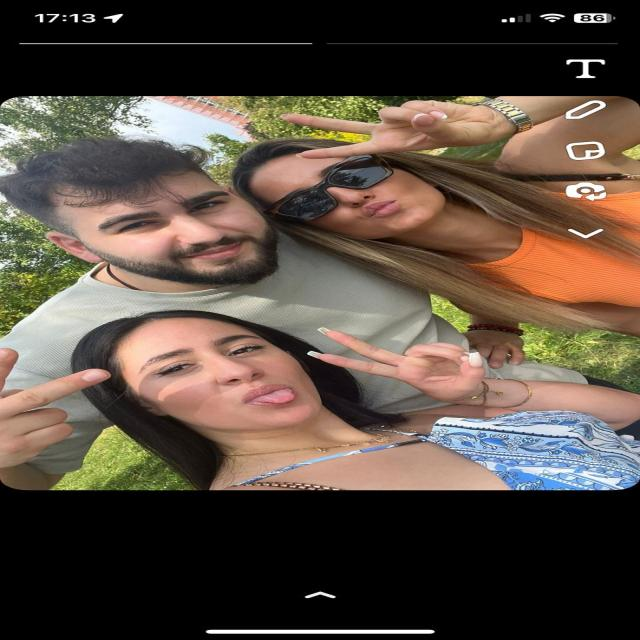Sero: (8, 142, 278, 288)
face: (84, 310, 338, 435), (245, 140, 458, 242)
